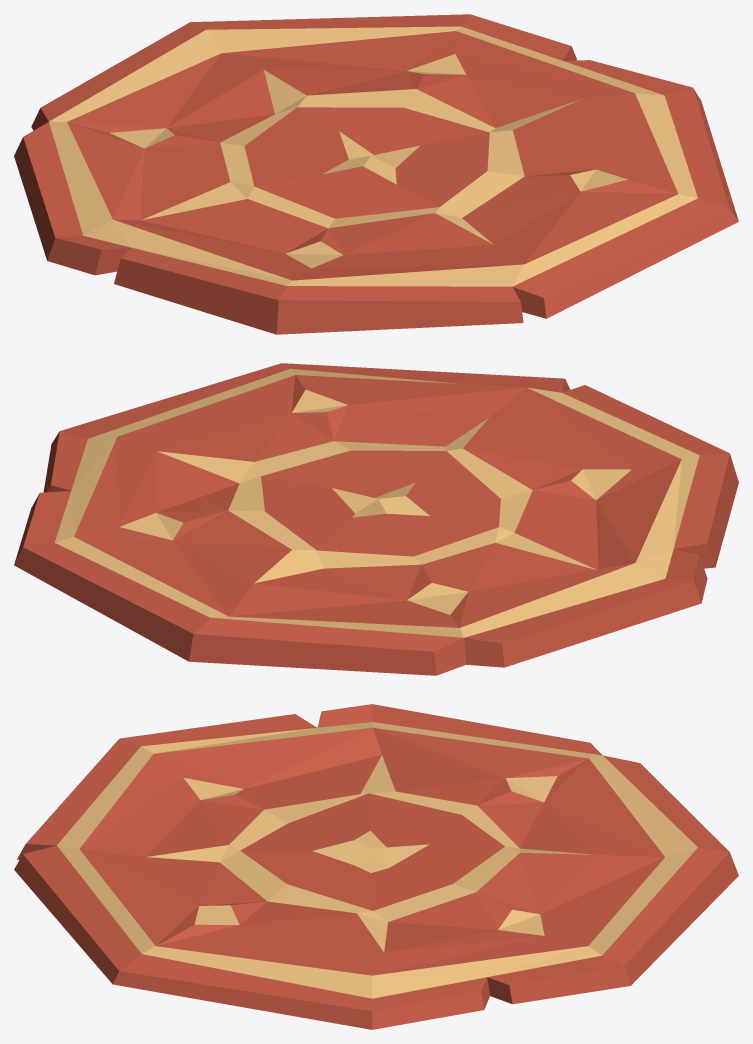
The model's file is CircleRug_Red.fbx.
The picture shows the model from 3 angles, top to bottom: view 1: azimuth 30°, elevation 25°; view 2: azimuth 150°, elevation 25°; view 3: azimuth 270°, elevation 25°; orthographic projection. The views are drawn at different scales.
Visible parts, largest first — view 1: CircleRug_Red; view 2: CircleRug_Red; view 3: CircleRug_Red.
Boxes of the visible parts, x1=… form: CircleRug_Red: x1=14, y1=14, x2=738, y2=334; CircleRug_Red: x1=14, y1=363, x2=738, y2=675; CircleRug_Red: x1=14, y1=704, x2=738, y2=1029.
Size of the model in its own units: 9.17 by 0.4681 by 9.07.
